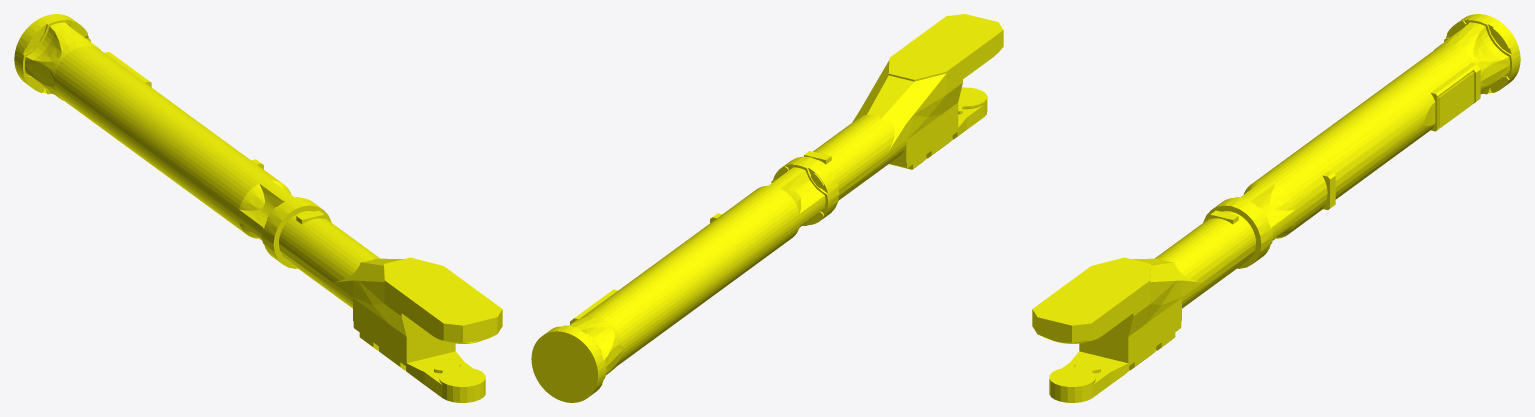
3 views of the same model, side by side, from view 1: azimuth 30°, elevation 25°; view 2: azimuth 150°, elevation 25°; view 3: azimuth 330°, elevation 25° (orthographic). The views are drawn at different scales.
Parts seen in each view (by area): view 1: node; view 2: node; view 3: node.
Boxes of the visible parts, left/top/right/bottom form: node: left=14, top=14, right=502, bottom=402; node: left=531, top=14, right=1003, bottom=402; node: left=1032, top=14, right=1520, bottom=402.
Size of the model in its own units: 140 by 164 by 1519.
